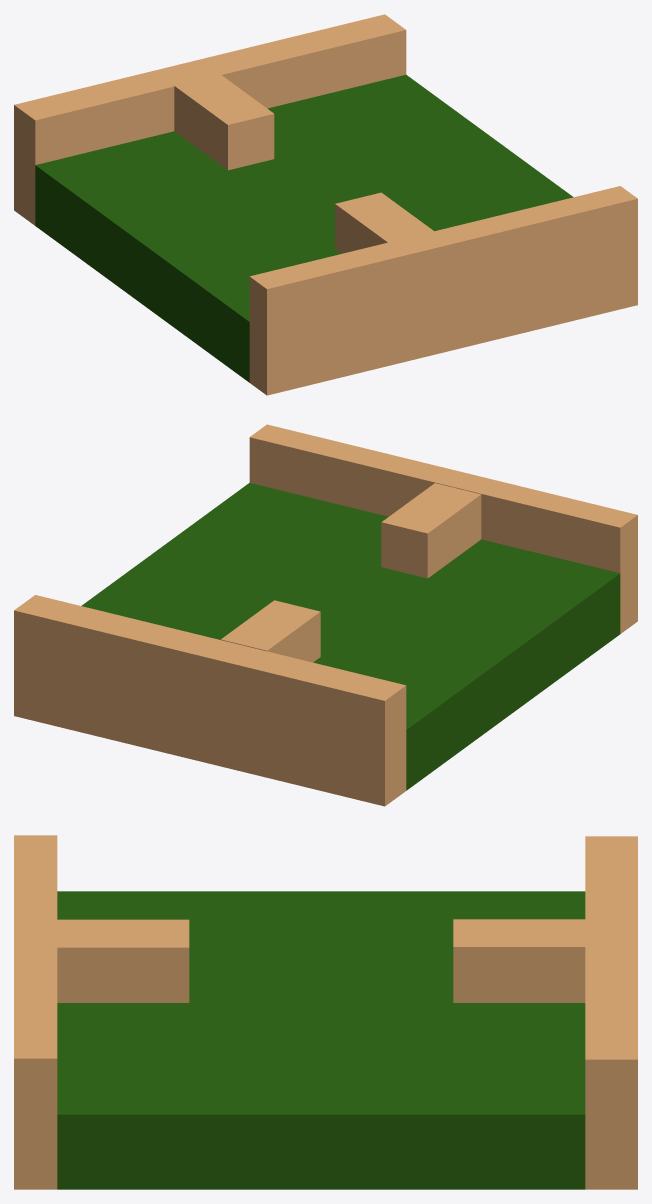
File: Lego5.fbx
The picture shows the model from 3 angles, top to bottom: view 1: azimuth 30°, elevation 25°; view 2: azimuth 150°, elevation 25°; view 3: azimuth 270°, elevation 25°; orthographic projection. The views are drawn at different scales.
Visible parts, largest first — view 1: Cube.005, Cube.014, Cube.015; view 2: Cube.005, Cube.015, Cube.014; view 3: Cube.005, Cube.015, Cube.014.
Boxes of the visible parts, x1=… form: Cube.005: x1=35, y1=74, x2=573, y2=382; Cube.014: x1=249, y1=186, x2=637, y2=395; Cube.015: x1=14, y1=14, x2=406, y2=225; Cube.005: x1=81, y1=483, x2=620, y2=790; Cube.015: x1=14, y1=595, x2=406, y2=806; Cube.014: x1=249, y1=424, x2=637, y2=633; Cube.005: x1=57, y1=891, x2=585, y2=1189; Cube.015: x1=453, y1=836, x2=637, y2=1189; Cube.014: x1=14, y1=835, x2=189, y2=1189.
Size of the model in its own units: 153 by 41.99 by 181.
